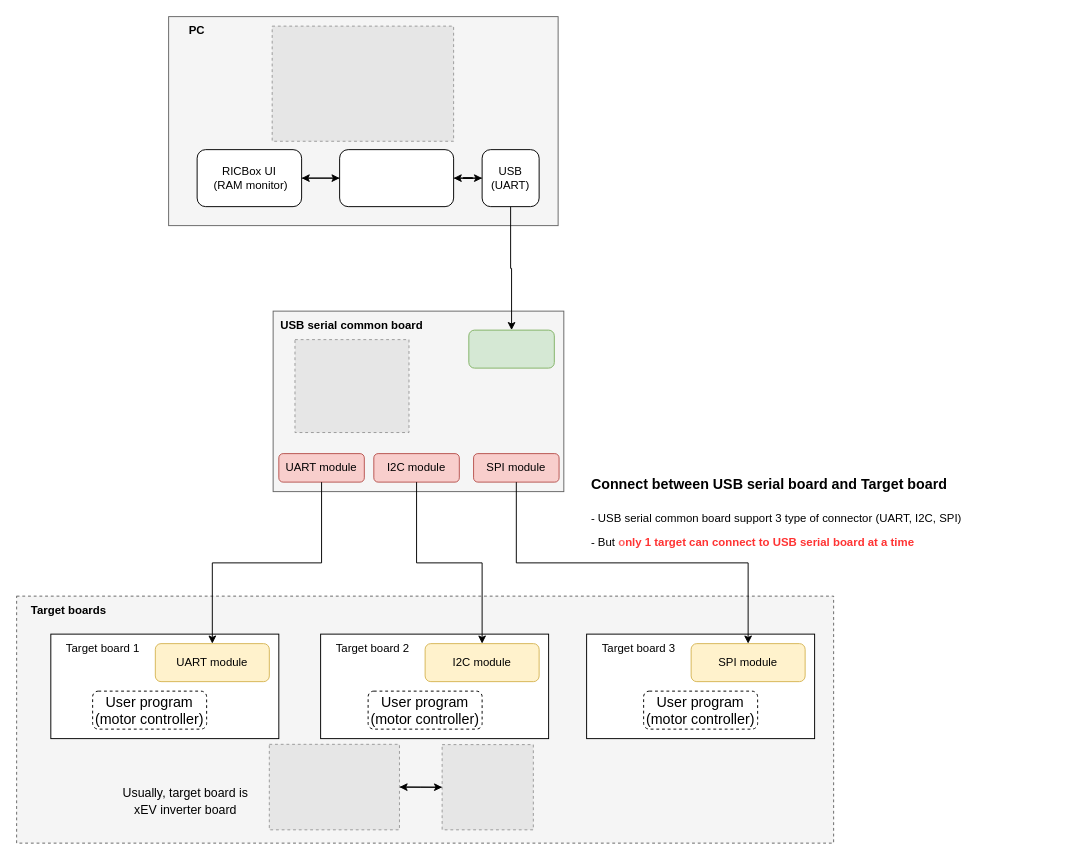
Image size: 1082x860. Some labels were removed from this diagram. Grey dashed boxes stand in for pictures. The shapes that lost their labels are listed below. From the top down, each one's centre as x and y in pixels, then its label:
At point 396,178: "rbcore (Python driver)".
At point 511,348: "UART (PC Connector)".
